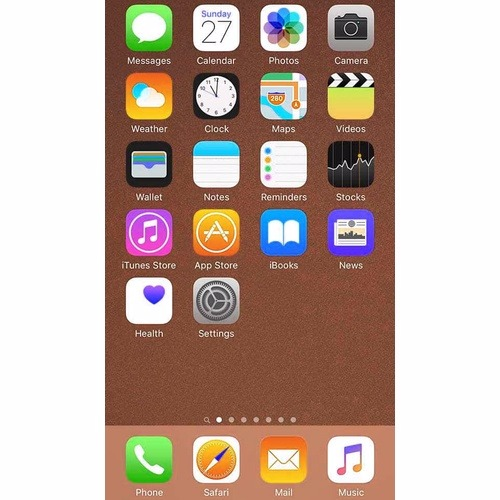calendar: (193, 4, 239, 51)
camera: (326, 4, 375, 52)
clock: (192, 71, 240, 119)
mail: (260, 436, 308, 484)
message: (125, 4, 173, 51)
phone: (125, 435, 172, 483)
